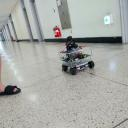cart: (58, 47, 94, 75)
